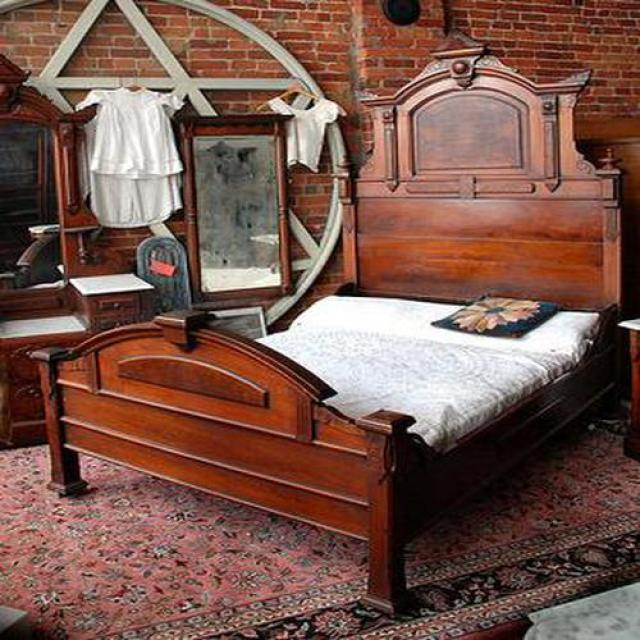bed: (32, 46, 623, 607)
